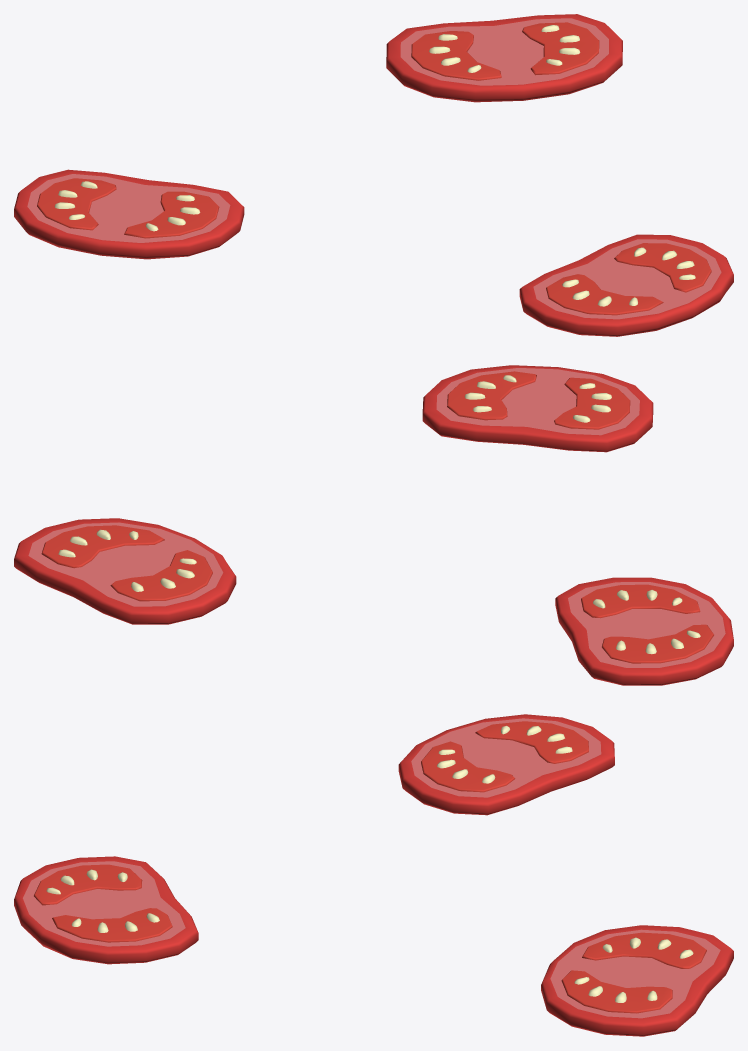
File: tomato.glb
The picture shows the model from 3 angles, top to bottom: view 1: azimuth 30°, elevation 25°; view 2: azimuth 150°, elevation 25°; view 3: azimuth 270°, elevation 25°; orthographic projection.
Visible parts, largest first — view 1: Tomato_Piece, Tomato_Piece.002, Tomato_Piece.001; view 2: Tomato_Piece, Tomato_Piece.001, Tomato_Piece.002; view 3: Tomato_Piece, Tomato_Piece.002, Tomato_Piece.001.
Boxes of the visible parts, left/top/right/bottom form: Tomato_Piece: left=386, top=14, right=622, bottom=102; Tomato_Piece.002: left=14, top=169, right=244, bottom=259; Tomato_Piece.001: left=519, top=234, right=733, bottom=336; Tomato_Piece: left=14, top=518, right=236, bottom=624; Tomato_Piece.001: left=422, top=365, right=653, bottom=452; Tomato_Piece.002: left=555, top=577, right=733, bottom=685; Tomato_Piece: left=541, top=925, right=733, bottom=1036; Tomato_Piece.002: left=398, top=714, right=614, bottom=815; Tomato_Piece.001: left=14, top=856, right=198, bottom=964.
Size of the model in its own units: 0.3947 by 0.0153 by 0.3854.
1 material, 1 textured.
